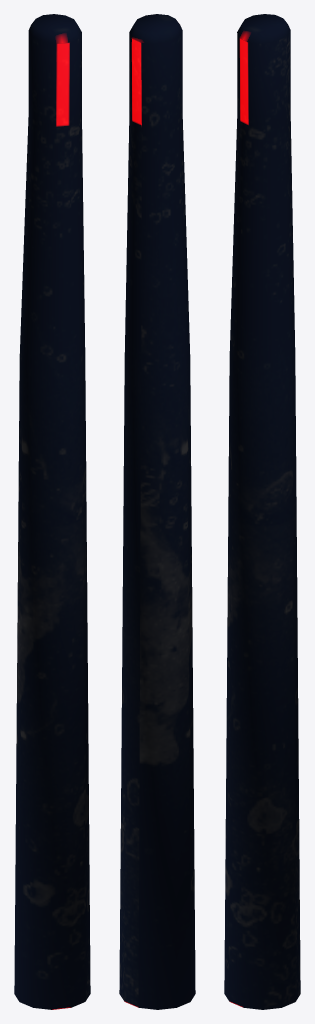
Rendered from towerforunity.fbx.
3 renders of one model, left to right at view 1: azimuth 30°, elevation 25°; view 2: azimuth 150°, elevation 25°; view 3: azimuth 330°, elevation 25°, orthographic.
Parts seen in each view (by area): view 1: Cylinder; view 2: Cylinder; view 3: Cylinder.
Boxes of the visible parts, <box> form: Cylinder: <box>14,14,90,1009</box>; Cylinder: <box>119,14,195,1009</box>; Cylinder: <box>224,14,300,1009</box>.
Size of the model in its own units: 28.93 by 406 by 28.58.
Materials: 1 (1 with a texture image).
